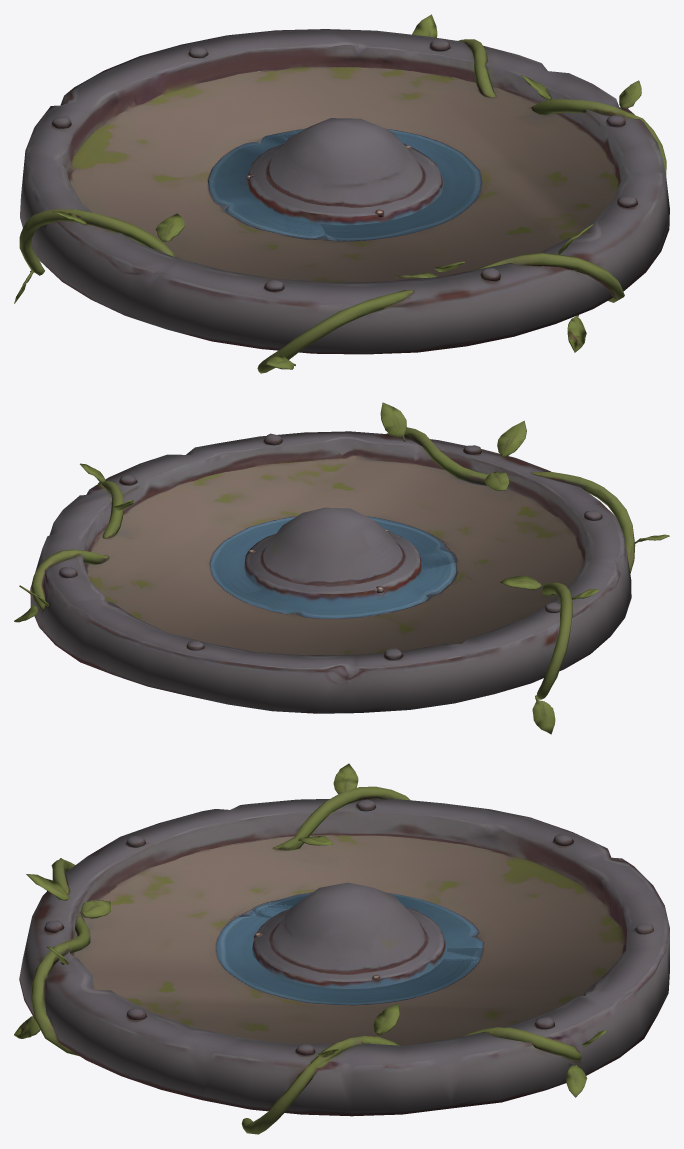
Rendered from warden_shield_tripo.glb.
The picture shows the model from 3 angles, top to bottom: view 1: azimuth 30°, elevation 25°; view 2: azimuth 150°, elevation 25°; view 3: azimuth 270°, elevation 25°; orthographic projection. The views are drawn at different scales.
Parts seen in each view (by area): view 1: tripo_node_47427288-2042-41ac-8fff-a7df811b58d9; view 2: tripo_node_47427288-2042-41ac-8fff-a7df811b58d9; view 3: tripo_node_47427288-2042-41ac-8fff-a7df811b58d9.
Boxes of the visible parts, bbox=[...] form: tripo_node_47427288-2042-41ac-8fff-a7df811b58d9: bbox=[14, 14, 669, 373]; tripo_node_47427288-2042-41ac-8fff-a7df811b58d9: bbox=[14, 402, 669, 734]; tripo_node_47427288-2042-41ac-8fff-a7df811b58d9: bbox=[14, 763, 669, 1134].
Bounding box in the file's own units: 0.998 × 0.2441 × 0.9902.
Materials: 1 (1 with a texture image).
